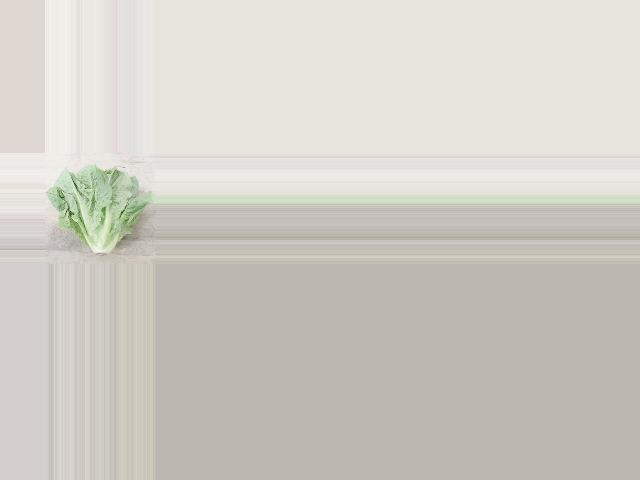lettuce: (49, 162, 152, 260)
